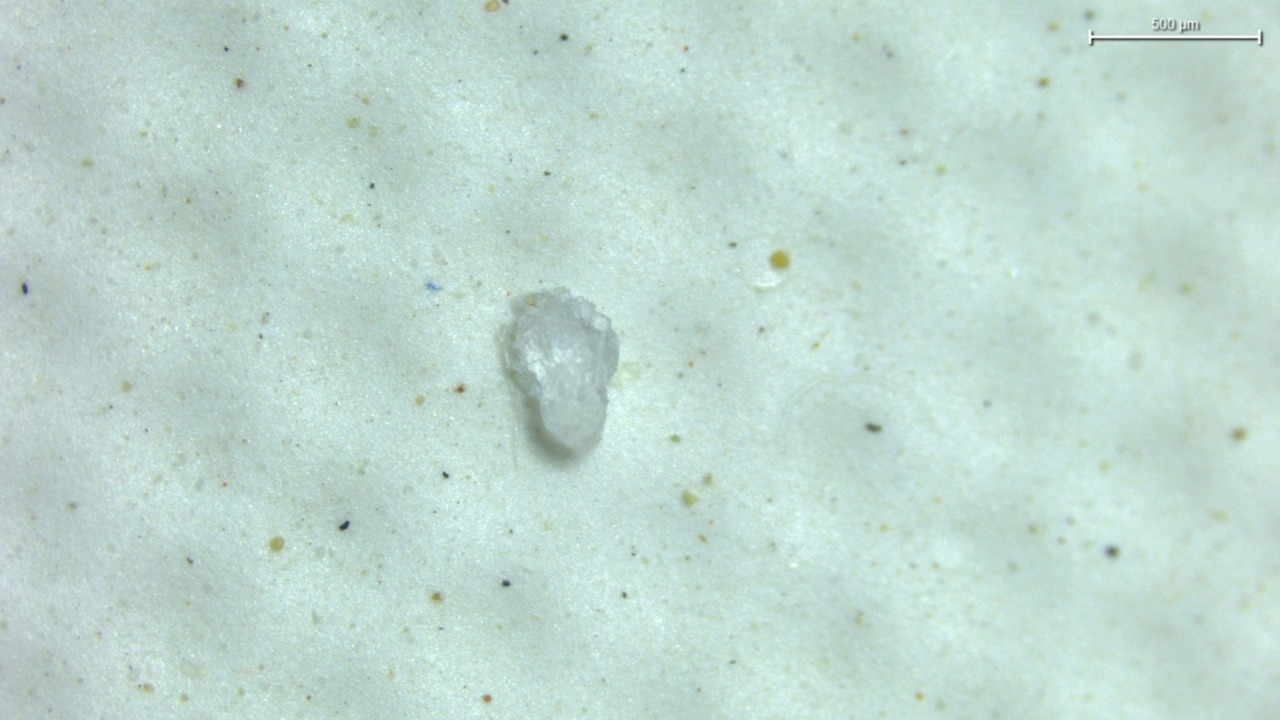microplastic_fragment: (502, 288, 619, 454)
